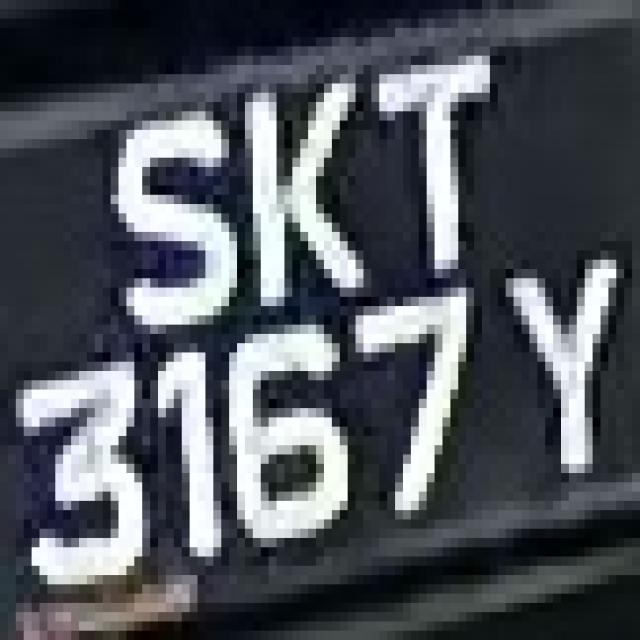1: (150, 316, 229, 584)
3: (8, 334, 166, 603)
6: (222, 316, 372, 548)
7: (348, 297, 490, 538)
K: (214, 56, 372, 334)
S: (95, 74, 229, 334)
T: (340, 56, 537, 278)
Y: (498, 223, 624, 492)
